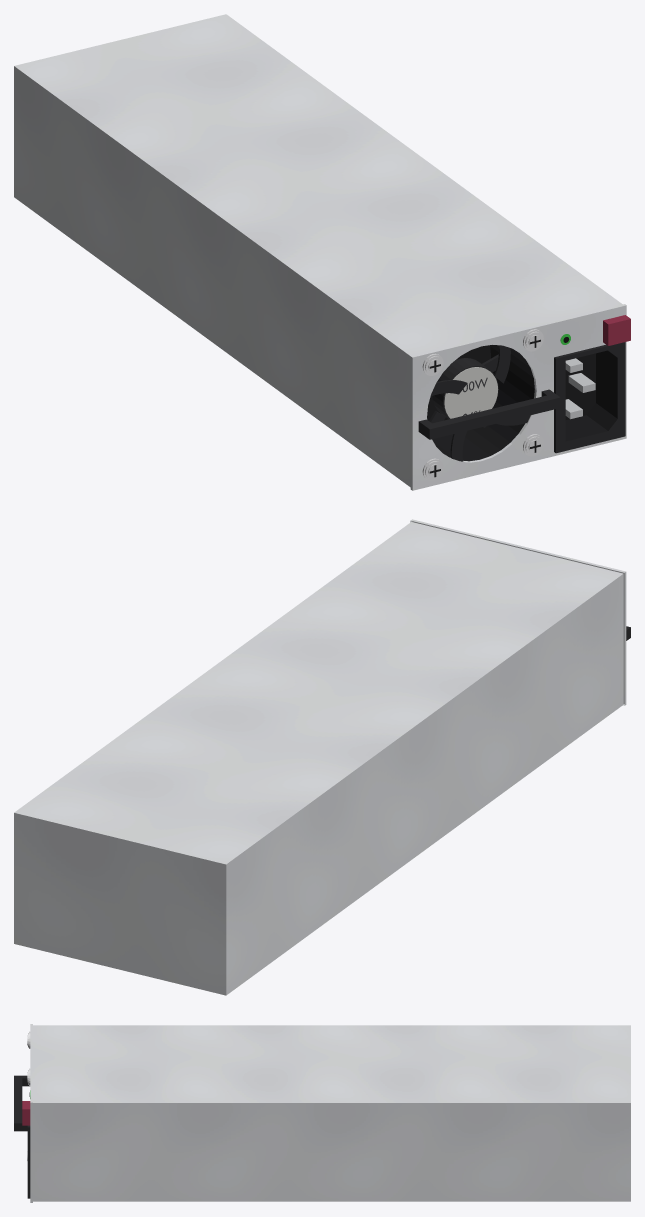
3 views of the same model, one above another, from view 1: azimuth 30°, elevation 25°; view 2: azimuth 150°, elevation 25°; view 3: azimuth 270°, elevation 25° (orthographic). The views are drawn at different scales.
Visible parts, largest first — view 1: PSU; view 2: PSU; view 3: PSU.
Boxes of the visible parts, x1,y1,x2,y2 form: PSU: (14,14,630,490); PSU: (14,519,630,995); PSU: (14,1024,630,1202).
Size of the model in its own units: 0.068 by 0.0404 by 0.2256.
10 materials, 1 textured.
